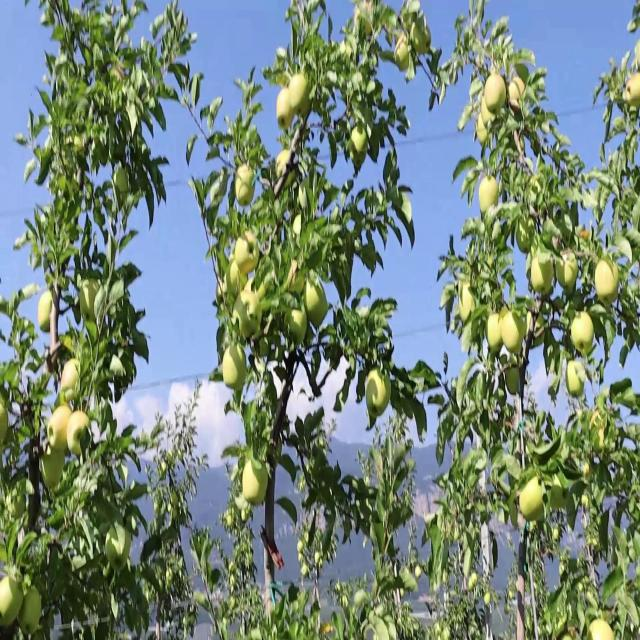apple: (48, 405, 72, 455), (556, 248, 580, 297), (368, 369, 391, 420), (0, 575, 23, 626), (224, 348, 249, 393), (244, 462, 268, 508), (500, 312, 526, 354), (68, 412, 91, 459), (520, 476, 544, 521), (572, 312, 596, 356), (108, 527, 132, 571), (20, 590, 42, 638), (596, 263, 620, 306), (236, 234, 260, 277), (304, 284, 328, 327), (44, 447, 66, 492), (532, 255, 555, 297), (60, 362, 81, 405), (236, 163, 256, 206), (292, 78, 312, 121), (288, 305, 308, 347), (276, 92, 295, 133), (480, 177, 500, 213), (516, 220, 536, 256), (488, 312, 504, 356), (508, 78, 526, 116), (568, 362, 585, 398), (64, 362, 81, 396), (460, 284, 476, 320), (588, 618, 615, 639), (40, 291, 52, 334), (396, 42, 412, 71), (416, 28, 432, 57), (352, 127, 368, 155), (628, 78, 640, 110), (508, 369, 521, 398), (480, 99, 495, 124), (476, 120, 489, 148), (352, 149, 368, 171), (580, 227, 592, 242), (4, 407, 8, 434)
